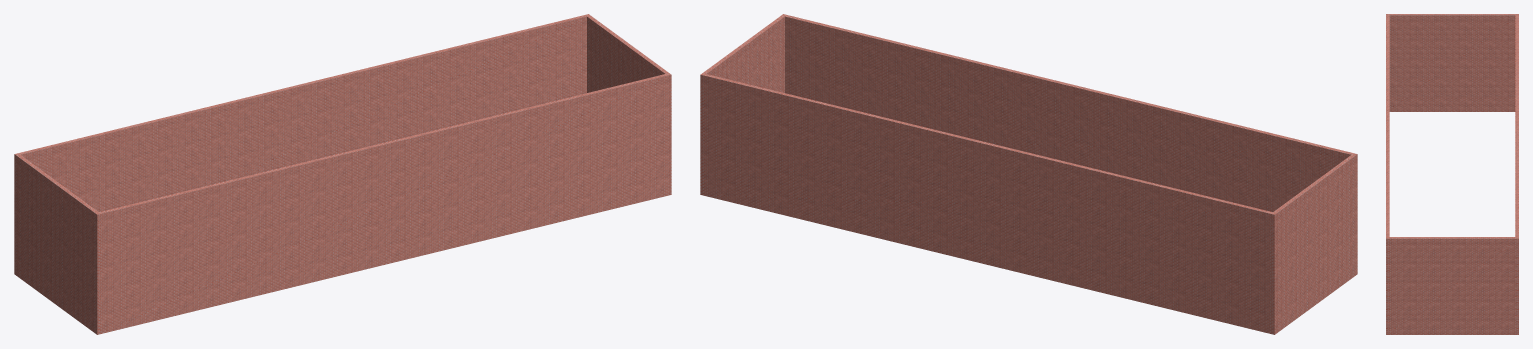
The model's file is portfolio1.glb.
The picture shows the model from 3 angles, left to right: view 1: azimuth 30°, elevation 25°; view 2: azimuth 150°, elevation 25°; view 3: azimuth 270°, elevation 25°; orthographic projection. The views are drawn at different scales.
Parts seen in each view (by area): view 1: wall2, wall4, wall1, wall3; view 2: wall4, wall2, wall1, wall3; view 3: wall3, wall1, wall2, wall4.
Part boxes in pixels (box(x1,y1,x2,y2)): wall2: box(95, 73, 671, 334); wall4: box(14, 14, 590, 275); wall1: box(14, 153, 100, 334); wall3: box(585, 14, 671, 191); wall4: box(700, 74, 1276, 333); wall2: box(781, 14, 1357, 211); wall1: box(1271, 153, 1357, 334); wall3: box(700, 14, 785, 195); wall3: box(1386, 237, 1518, 334); wall1: box(1386, 14, 1518, 111); wall2: box(1386, 15, 1389, 334); wall4: box(1515, 15, 1518, 334).
Size of what is drawn, in the model's own units: 30.48 by 6.1 by 7.62.
1 material, 1 textured.
